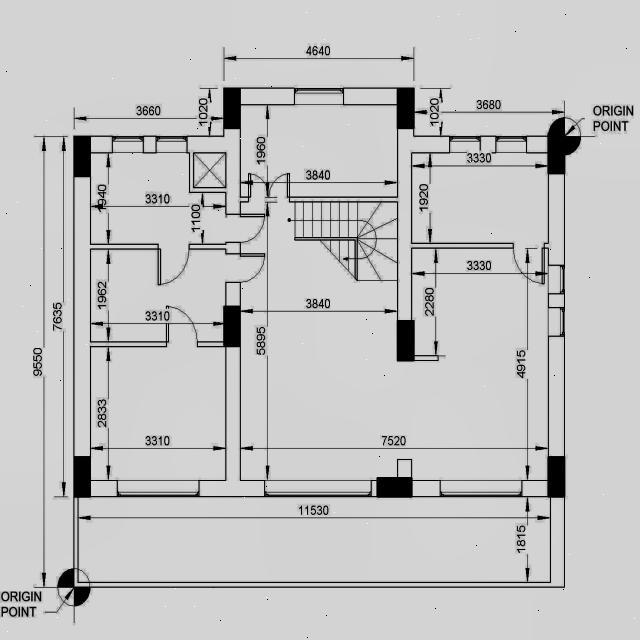Column: (396, 319, 414, 362), (73, 136, 91, 178), (73, 456, 91, 498), (223, 88, 241, 130), (223, 306, 241, 348), (396, 88, 414, 130), (548, 456, 566, 498), (377, 478, 412, 498), (548, 136, 566, 174)
Door: (513, 242, 548, 284), (158, 243, 190, 286), (225, 248, 265, 282), (166, 306, 198, 348), (226, 214, 266, 245)
Double-Door: (248, 174, 290, 202)
Staircase: (290, 202, 397, 280)
Window: (264, 480, 372, 497), (440, 480, 522, 497), (117, 480, 199, 497), (294, 88, 344, 106), (112, 136, 144, 154), (156, 136, 188, 154), (449, 136, 481, 154), (495, 136, 527, 154), (548, 264, 565, 294), (548, 307, 565, 337)
